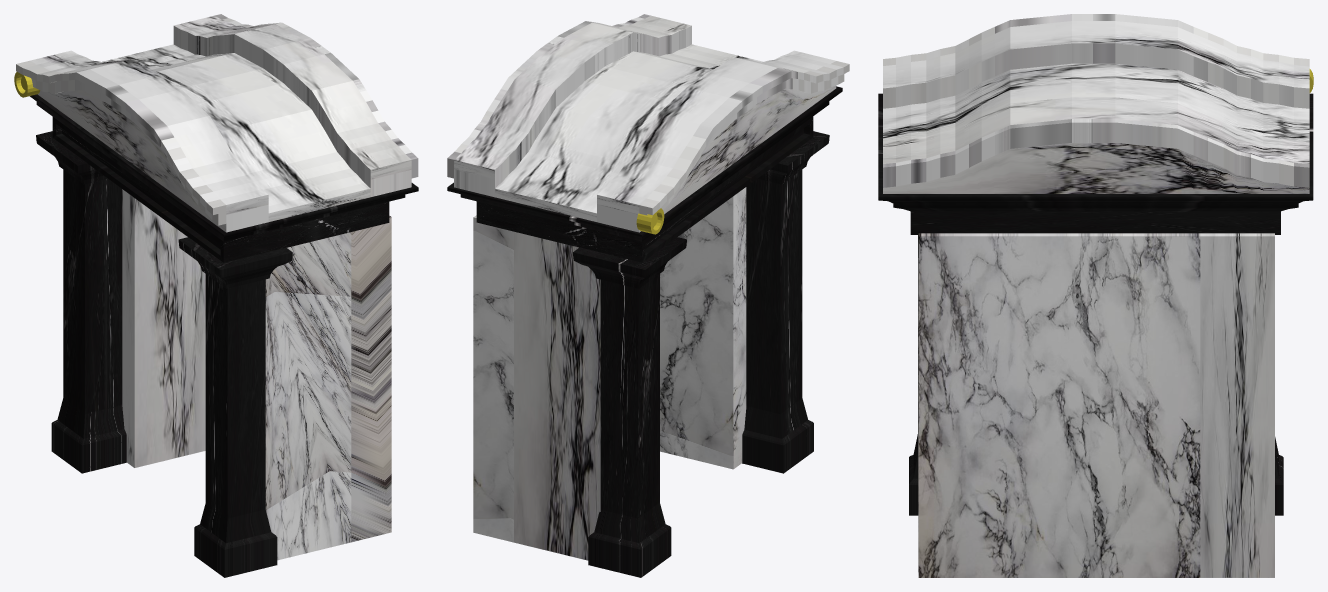
File: bank portale.fbx
The picture shows the model from 3 angles, left to right: view 1: azimuth 30°, elevation 25°; view 2: azimuth 150°, elevation 25°; view 3: azimuth 270°, elevation 25°; orthographic projection. The views are drawn at different scales.
Parts seen in each view (by area): view 1: pCube4, pCube7, pCube2, pCube1, pCube6; view 2: pCube4, pCube7, pCube1, pCube2, pCube6, pCylinder1; view 3: pCube4, pCube7, pCube6, pCube2, pCube1.
Boxes of the visible parts, left/top/right/bottom form: pCube4: left=122, top=189, right=391, bottom=560; pCube7: left=16, top=14, right=418, bottom=232; pCube2: left=178, top=237, right=292, bottom=577; pCube1: left=36, top=131, right=126, bottom=473; pCube6: left=30, top=94, right=418, bottom=262; pCube4: left=473, top=187, right=746, bottom=560; pCube7: left=447, top=14, right=849, bottom=232; pCube1: left=573, top=237, right=686, bottom=577; pCube2: left=742, top=131, right=829, bottom=473; pCube6: left=447, top=86, right=842, bottom=262; pCylinder1: left=636, top=208, right=664, bottom=234; pCube4: left=918, top=233, right=1274, bottom=577; pCube7: left=883, top=14, right=1309, bottom=193; pCube6: left=878, top=93, right=1313, bottom=234; pCube2: left=909, top=235, right=918, bottom=515; pCube1: left=1275, top=437, right=1283, bottom=515.
Size of the model in its own units: 124 by 247 by 211.
